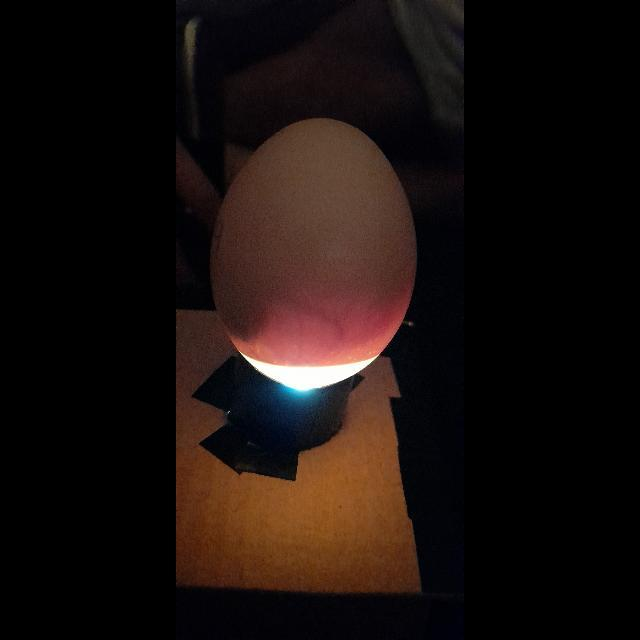Fertile: (206, 114, 416, 394)
